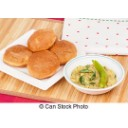poori: (28, 50, 59, 78), (50, 39, 78, 64), (3, 45, 33, 66), (29, 29, 56, 52)
